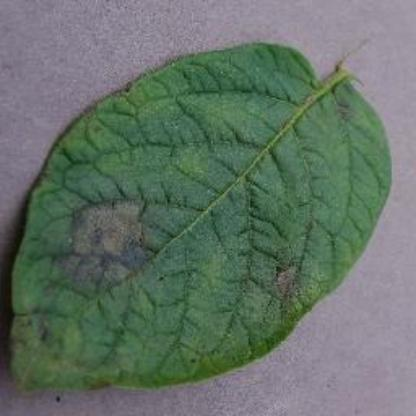Late-Blight: (12, 17, 398, 406)
